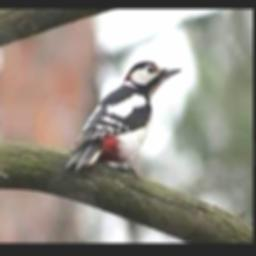Woodpecker: (66, 61, 183, 178)
